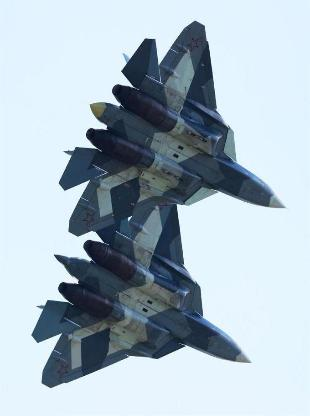SR71: (58, 20, 286, 236), (30, 204, 250, 388)
